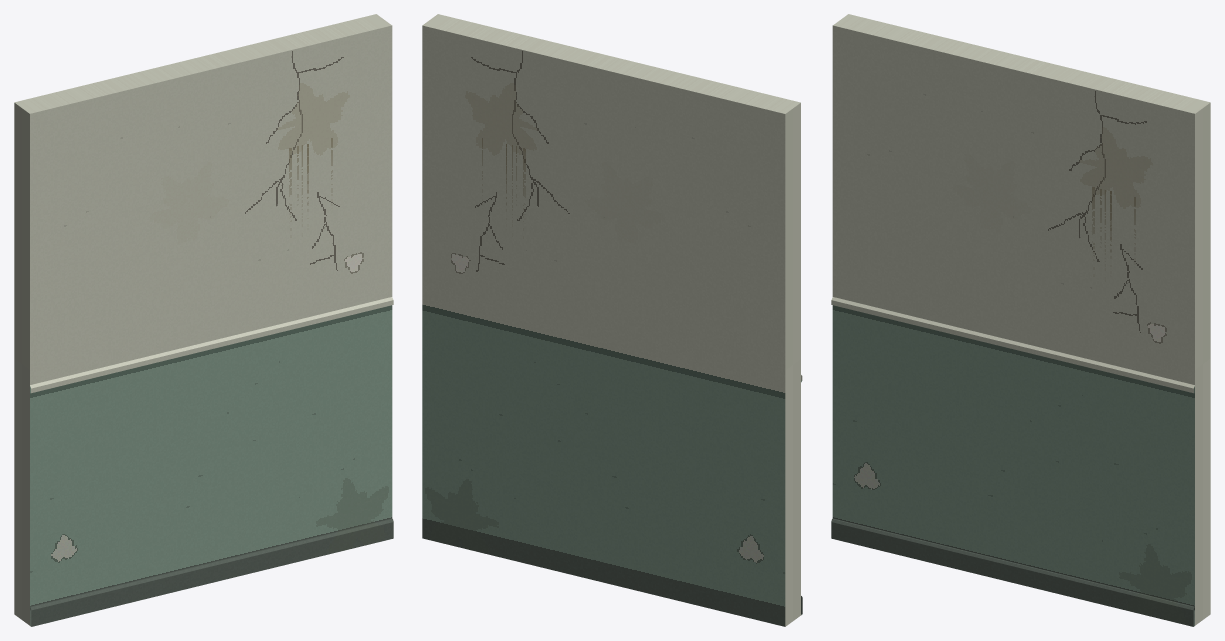
File: wall_3a.glb
3 views of the same model, side by side, from view 1: azimuth 30°, elevation 25°; view 2: azimuth 150°, elevation 25°; view 3: azimuth 330°, elevation 25° (orthographic).
Parts seen in each view (by area): view 1: wall_body; view 2: wall_body; view 3: wall_body.
Part boxes in pixels (x1,y1,x2,y2): wall_body: (14,14,393,626); wall_body: (422,14,802,626); wall_body: (831,14,1210,626).
Size of the model in its own units: 2 by 2.7 by 0.1656.
Materials: 1 (1 with a texture image).
